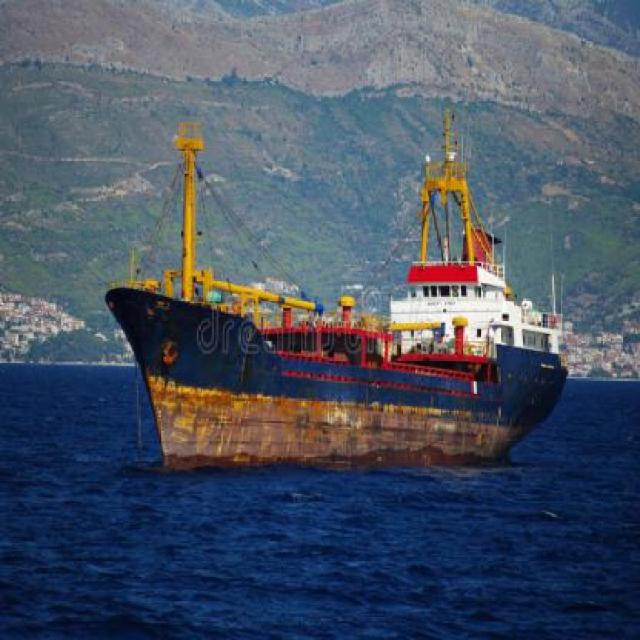corrosion: (105, 239, 569, 467)
